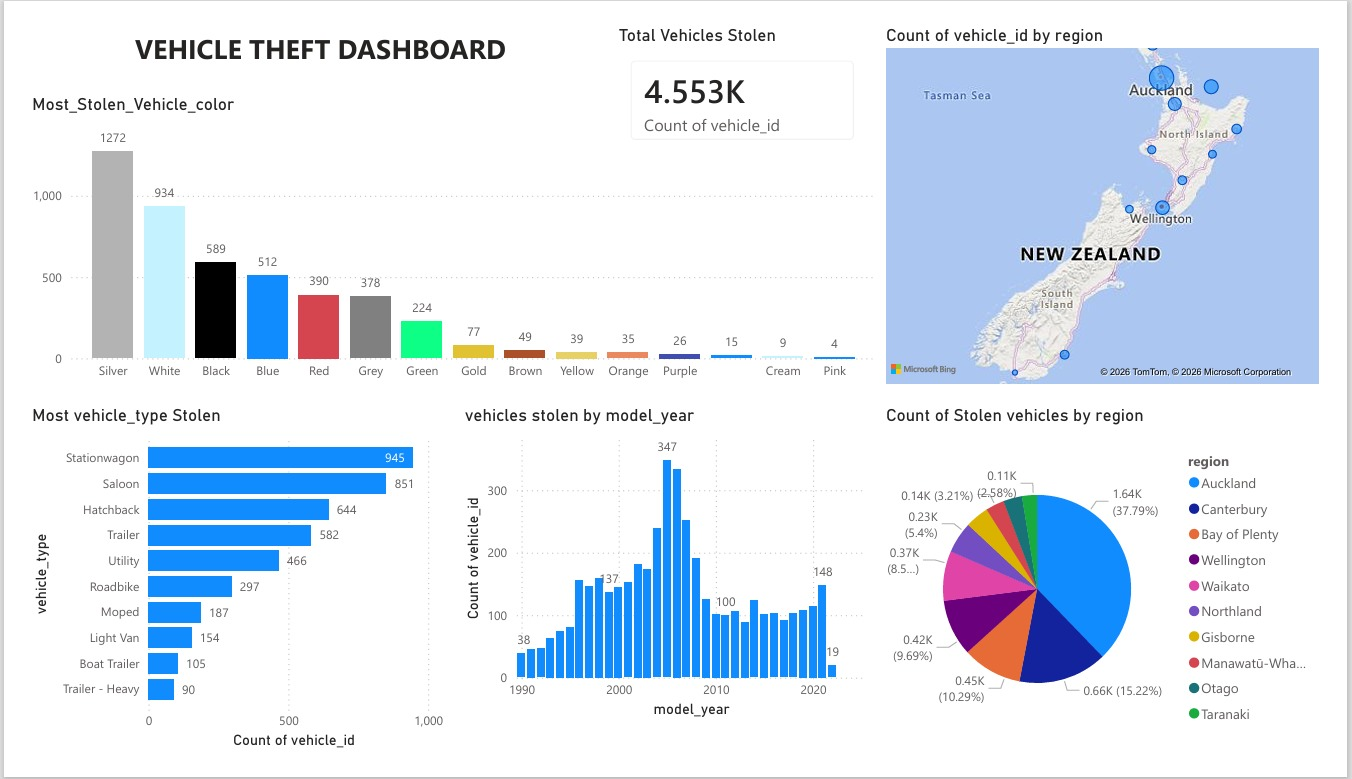

Layout of this report page (visuals, bound fields, positions):
{"tool":"powerbi","page":{"name":"vehicle theft Dashboard","canvas":[1280,720],"ordinal":0},"visuals":[{"type":"barChart","title":"Most vehicle_type Stolen","fields":{"Category":["stolen_vehicles.vehicle_type"],"Y":["CountNonNull(stolen_vehicles.vehicle_id)"]},"box":[0,375.7,427.1,344.3],"z":0},{"type":"columnChart","title":"vehicles stolen by model_year","fields":{"Category":["stolen_vehicles.model_year"],"Y":["CountNonNull(stolen_vehicles.vehicle_id)"]},"box":[427.1,375.7,415.7,312.9],"z":1000},{"type":"pieChart","title":"Count of Stolen vehicles by region","fields":{"Category":["locations.region"],"Y":["CountNonNull(stolen_vehicles.vehicle_id)"]},"box":[842.9,375.7,437.1,344.3],"z":2000},{"type":"map","fields":{"Category":["locations.region"],"Size":["CountNonNull(stolen_vehicles.vehicle_id)"]},"box":[842.9,0,437.1,360],"z":3000},{"type":"columnChart","title":"Most_Stolen_Vehicle_color","fields":{"Category":["stolen_vehicles.color"],"Y":["CountNonNull(stolen_vehicles.vehicle_id)"]},"box":[0,68.6,842.9,291.4],"z":4000},{"type":"textbox","box":[0,0,578.6,68.6],"z":5000},{"type":"cardVisual","title":"Total Vehicles Stolen","fields":{"Data":["CountNonNull(stolen_vehicles.vehicle_id)"]},"box":[578.6,0,254.3,131.4],"z":6000}]}

Visuals, with their boxes in screenshot pixels (x1, y1, x2, y2), scaled from the page's 1280x720 canvas onto the 1352x779 screenshot:
"Most vehicle_type Stolen" barChart: <bbox>0, 406, 451, 778</bbox>
"vehicles stolen by model_year" columnChart: <bbox>451, 406, 890, 745</bbox>
"Count of Stolen vehicles by region" pieChart: <bbox>890, 406, 1351, 778</bbox>
map - locations.region x CountNonNull(stolen_vehicles.vehicle_id): <bbox>890, 0, 1351, 390</bbox>
"Most_Stolen_Vehicle_color" columnChart: <bbox>0, 74, 890, 390</bbox>
textbox: <bbox>0, 0, 611, 74</bbox>
"Total Vehicles Stolen" cardVisual: <bbox>611, 0, 880, 142</bbox>
